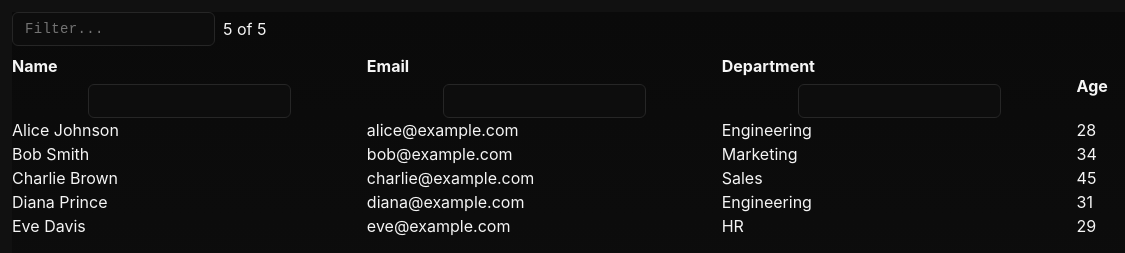
DataTable - Filtering › clears filters when search input is cleared
Type "Alice" into the search field labelled "Filter..." at (114, 29), box [12,12,215,46]
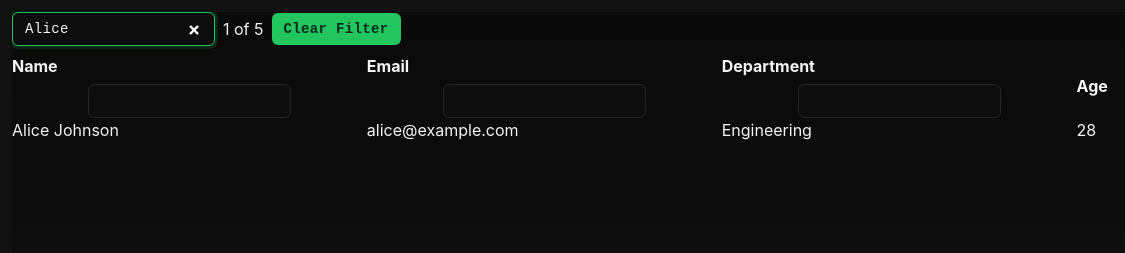
Now the text "Bob Smith" is gone
Clear the search field named "Filter" at (114, 29), box [12,12,215,46]
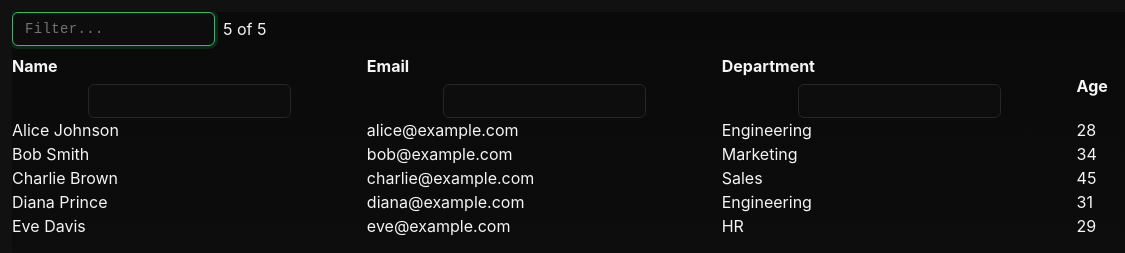
Now the text "Bob Smith" is shown, box [12,144,89,164]
